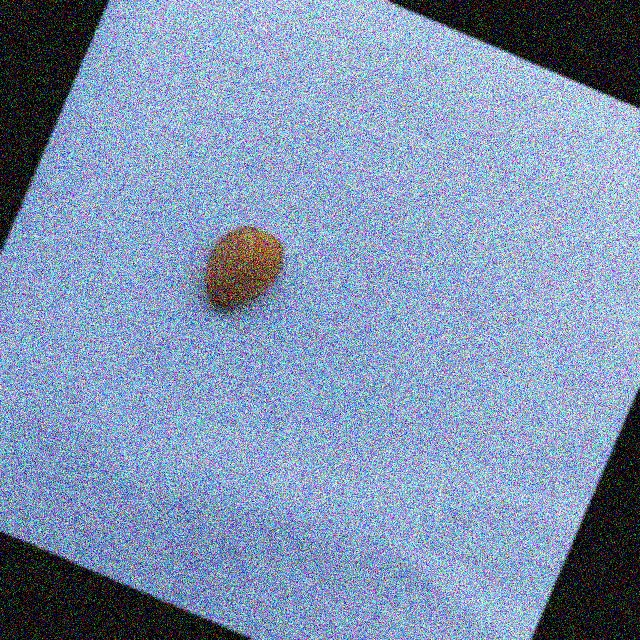grade2: (188, 211, 299, 331)
